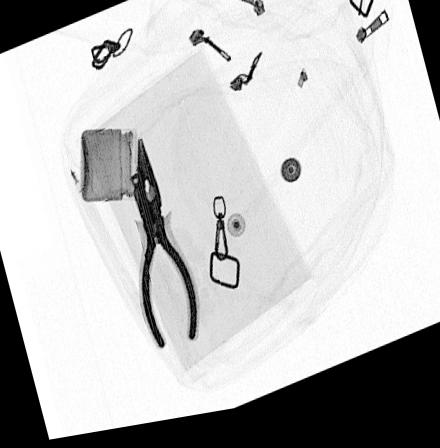Pliers: (132, 140, 202, 358)
